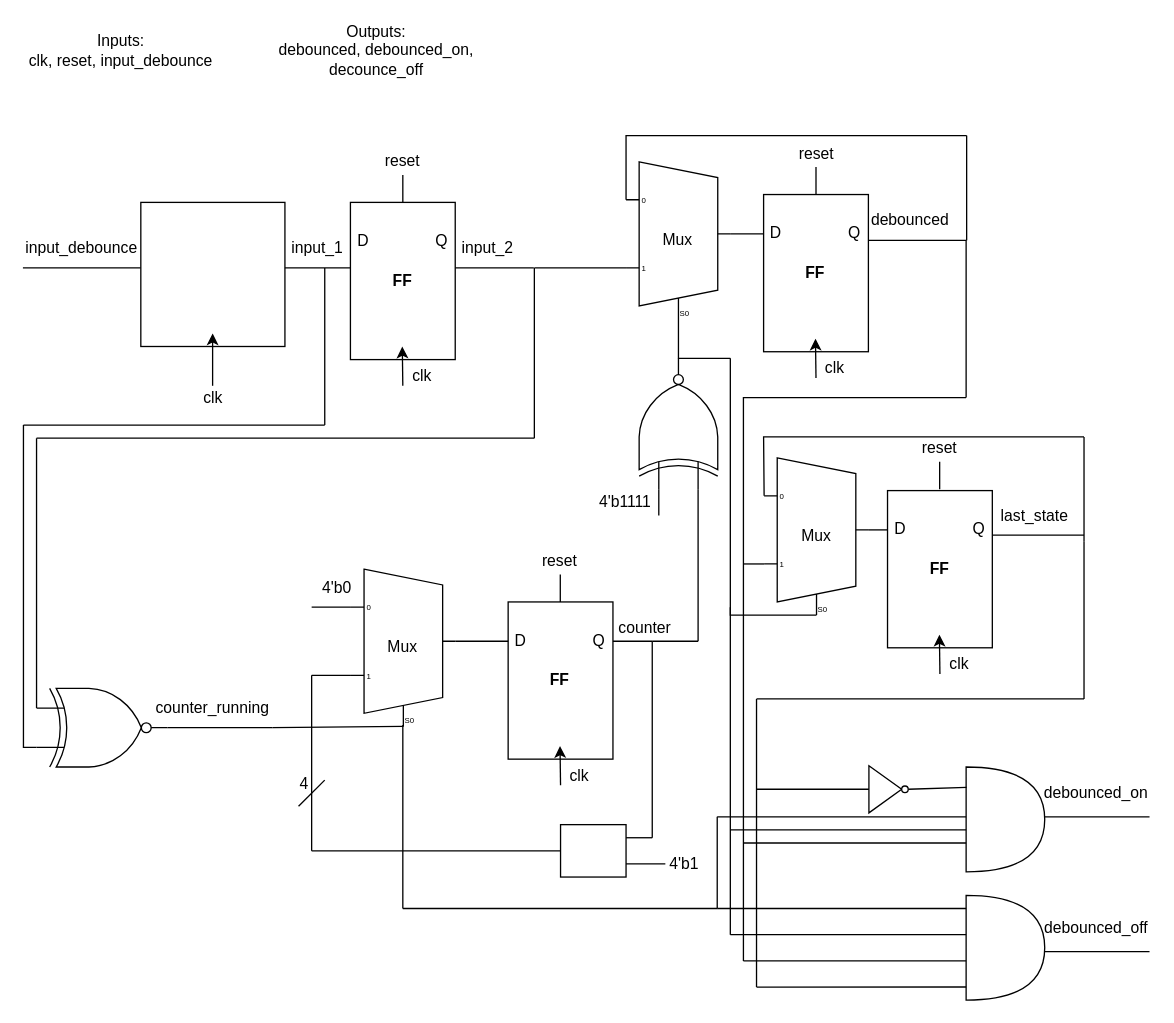
Image size: 1174x1023. Some labels were removed from this diagram. Here are the shapes that lost their labels. From the top down, the box of each, then its label:
(140, 201, 285, 346): InputSynchronizer
(559, 823, 626, 877): 4-bit Adder
